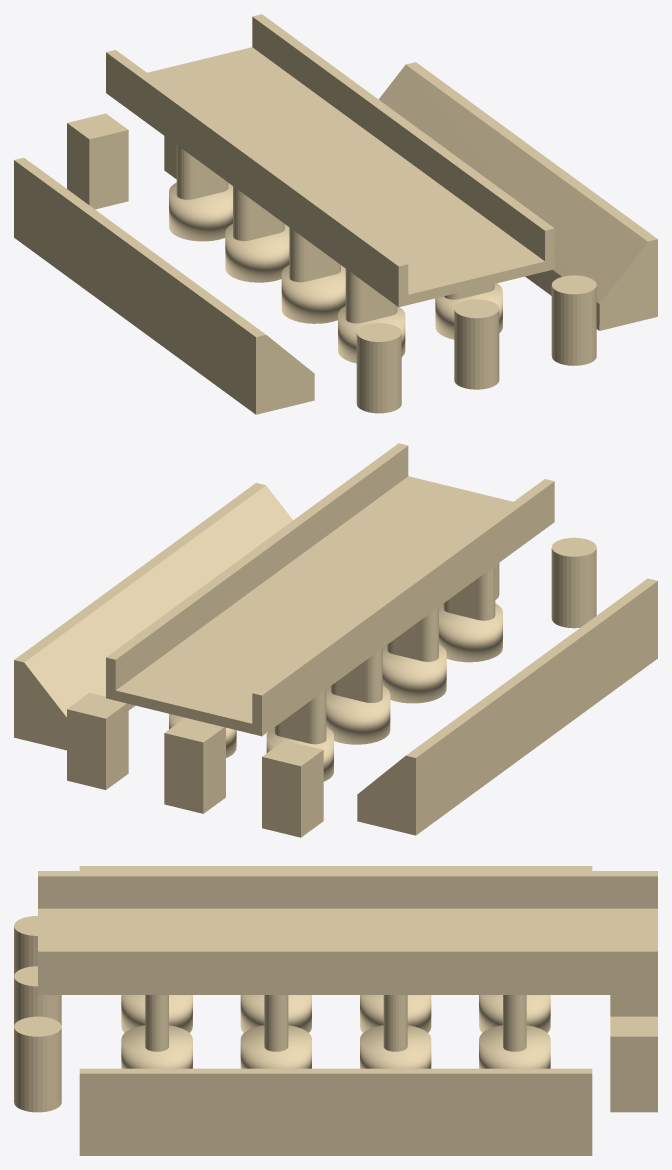
Rendered from new_map.dae.
3 views of the same model, one above another, from view 1: azimuth 30°, elevation 25°; view 2: azimuth 150°, elevation 25°; view 3: azimuth 270°, elevation 25° (orthographic). The views are drawn at different scales.
Parts seen in each view (by area): view 1: 柱体; view 2: 柱体; view 3: 柱体.
Part boxes in pixels (x1,y1,x2,y2): 柱体: (14,14,657,414); 柱体: (14,443,657,837); 柱体: (14,866,657,1155).
Bounding box in the file's own units: 41.22 × 54 × 13.01.
